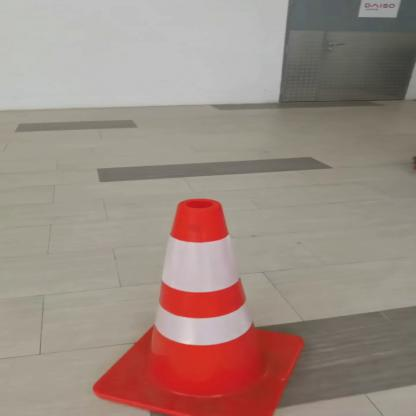cone: (80, 191, 320, 416)
